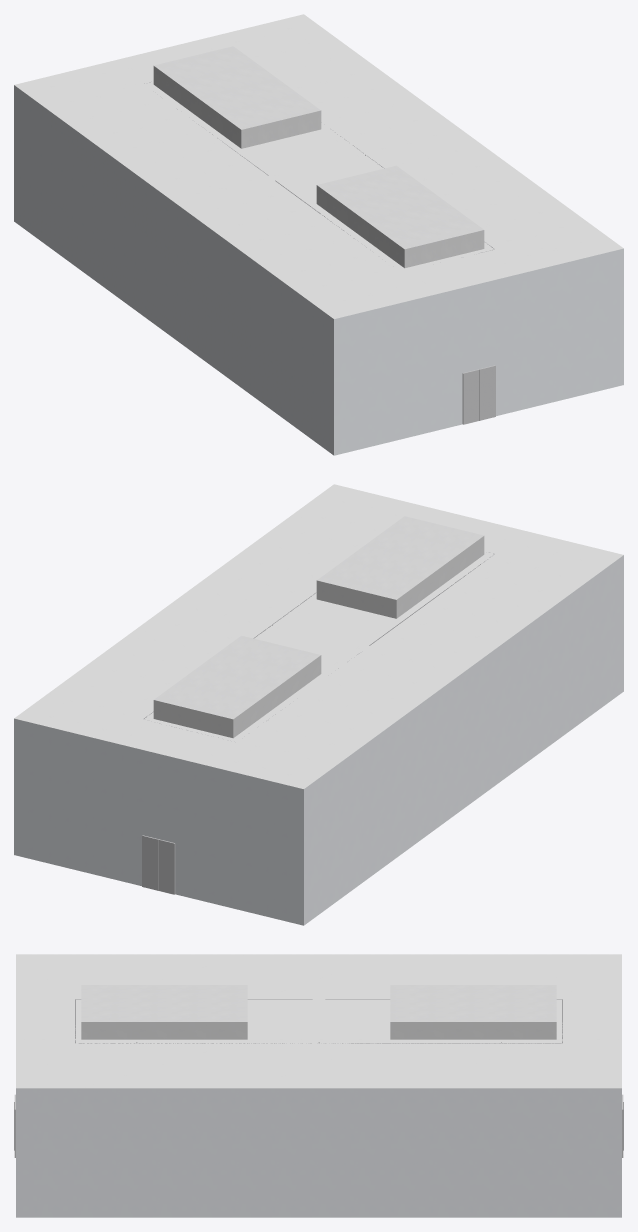
The model's file is T_blackwhite_B.glb.
3 renders of one model, top to bottom at view 1: azimuth 30°, elevation 25°; view 2: azimuth 150°, elevation 25°; view 3: azimuth 270°, elevation 25°, orthographic. The views are drawn at different scales.
Visible parts, largest first — view 1: Hall, Soffit, Lightwell, Door_0; view 2: Hall, Soffit, Lightwell, Door_1; view 3: Hall, Soffit, Lightwell, T_track.
Part boxes in pixels (box(x1,y1,x2,y2)): Hall: box(14, 85, 623, 455); Soffit: box(14, 14, 623, 318); Lightwell: box(153, 46, 484, 268); Door_0: box(462, 365, 495, 424); Hall: box(14, 555, 623, 925); Soffit: box(14, 484, 623, 788); Lightwell: box(153, 516, 484, 738); Door_1: box(142, 835, 175, 894); Hall: box(16, 1088, 621, 1217); Soffit: box(16, 954, 621, 1088); Lightwell: box(81, 985, 556, 1039); T_track: box(75, 999, 562, 1043).
Size of the model in its own units: 16 by 8.2 by 30.8.
11 materials, 7 textured.
